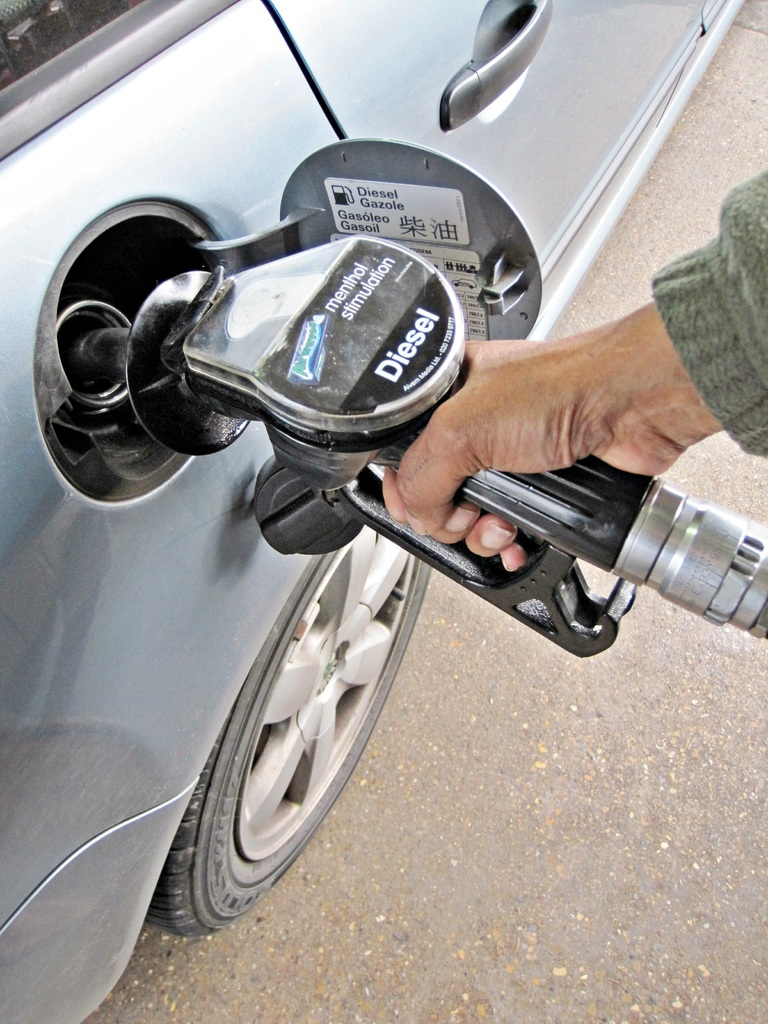Car: (0, 0, 746, 1023)
